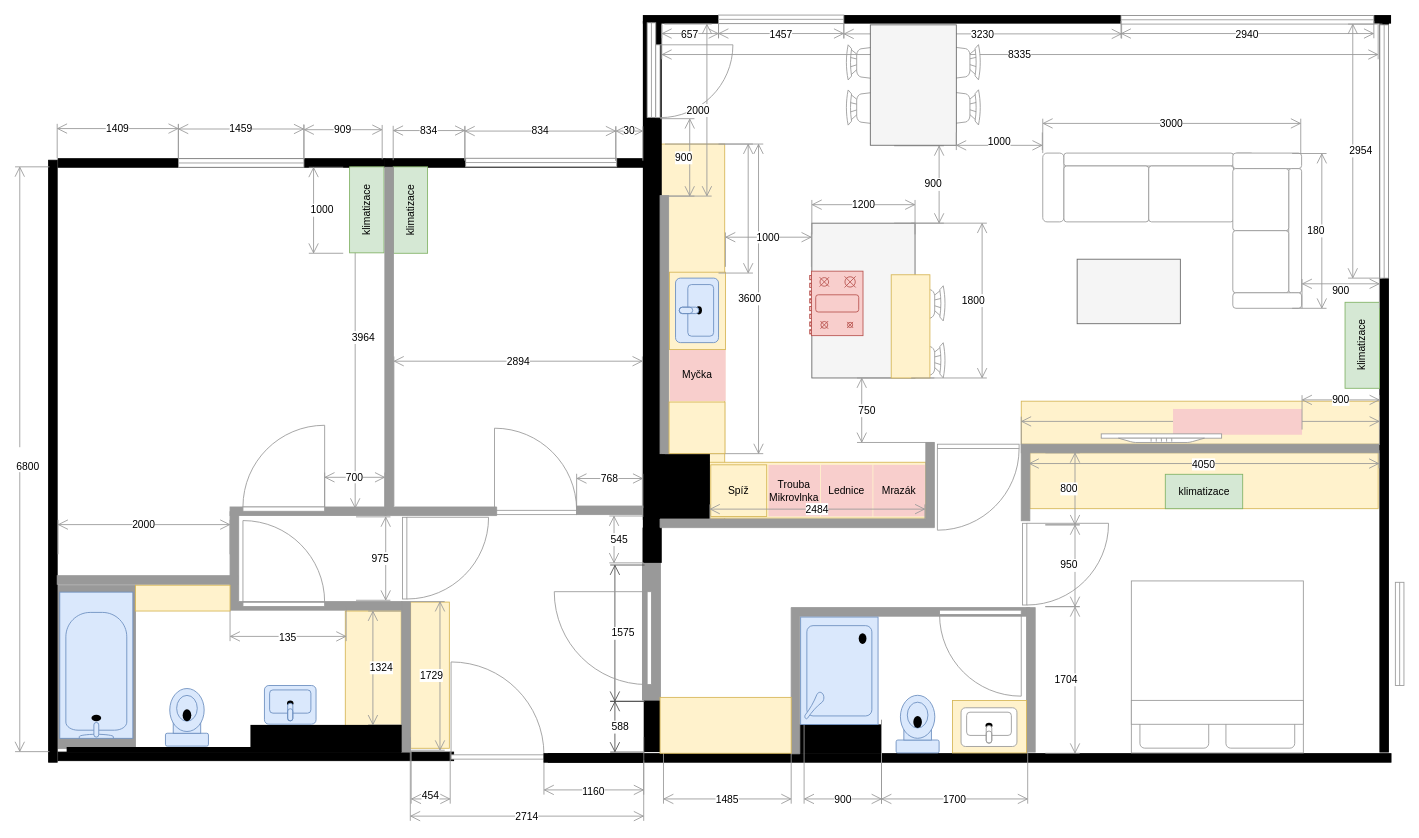
Image size: 1419x838. Some labels were removed from this diagram. The shapes that lost their labels are listed below. From the top down, each one's centre as x and y in pixels, then its label:
the point at 735,208: Label
the point at 1237,421: parní krb
